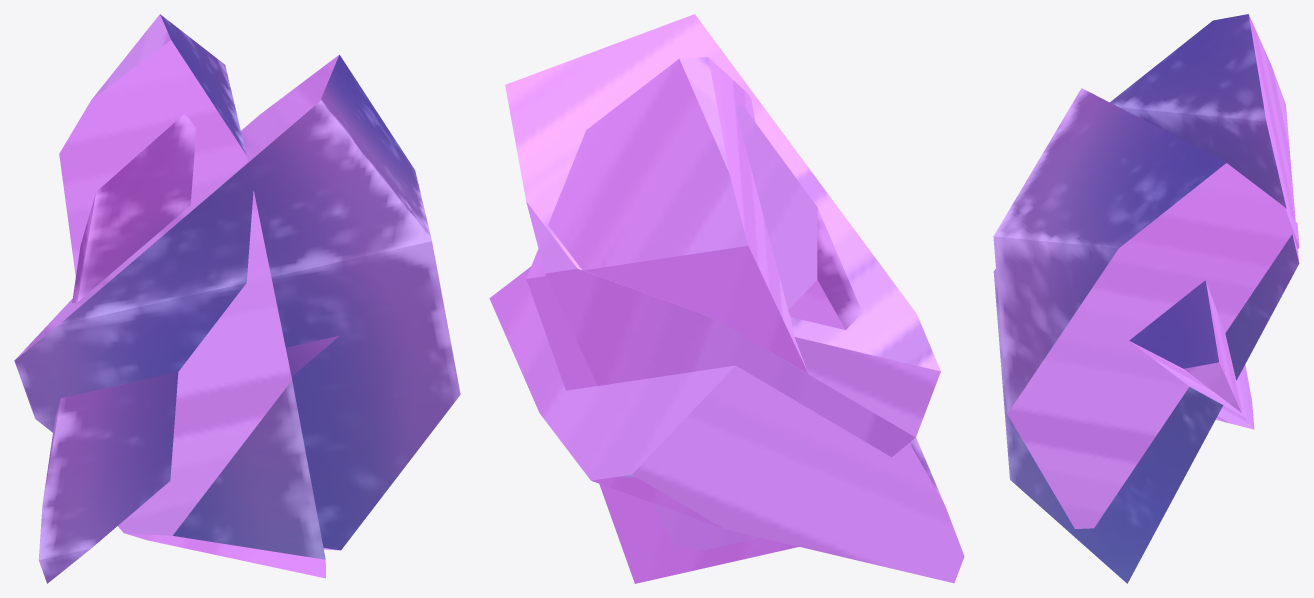
The model's file is CrystalPieces.fbx.
3 views of the same model, side by side, from view 1: azimuth 30°, elevation 25°; view 2: azimuth 150°, elevation 25°; view 3: azimuth 270°, elevation 25° (orthographic). The views are drawn at different scales.
Visible parts, largest first — view 1: CrystalNode_Ready_GeometryCollection_SM_105_, CrystalNode_Ready_GeometryCollection_SM_125_, CrystalNode_Ready_GeometryCollection_SM_109_; view 2: CrystalNode_Ready_GeometryCollection_SM_109_, CrystalNode_Ready_GeometryCollection_SM_105_, CrystalNode_Ready_GeometryCollection_SM_125_; view 3: CrystalNode_Ready_GeometryCollection_SM_105_, CrystalNode_Ready_GeometryCollection_SM_125_, CrystalNode_Ready_GeometryCollection_SM_109_.
Part boxes in pixels (x1,y1,x2,y2): CrystalNode_Ready_GeometryCollection_SM_105_: (14,54,460,550); CrystalNode_Ready_GeometryCollection_SM_125_: (59,14,325,578); CrystalNode_Ready_GeometryCollection_SM_109_: (38,114,339,583); CrystalNode_Ready_GeometryCollection_SM_109_: (489,104,964,583); CrystalNode_Ready_GeometryCollection_SM_105_: (505,14,940,550); CrystalNode_Ready_GeometryCollection_SM_125_: (526,57,808,583); CrystalNode_Ready_GeometryCollection_SM_105_: (993,88,1299,528); CrystalNode_Ready_GeometryCollection_SM_125_: (993,14,1299,583); CrystalNode_Ready_GeometryCollection_SM_109_: (1129,280,1254,429).
Size of the model in its own units: 18.17 by 24.97 by 13.27.
